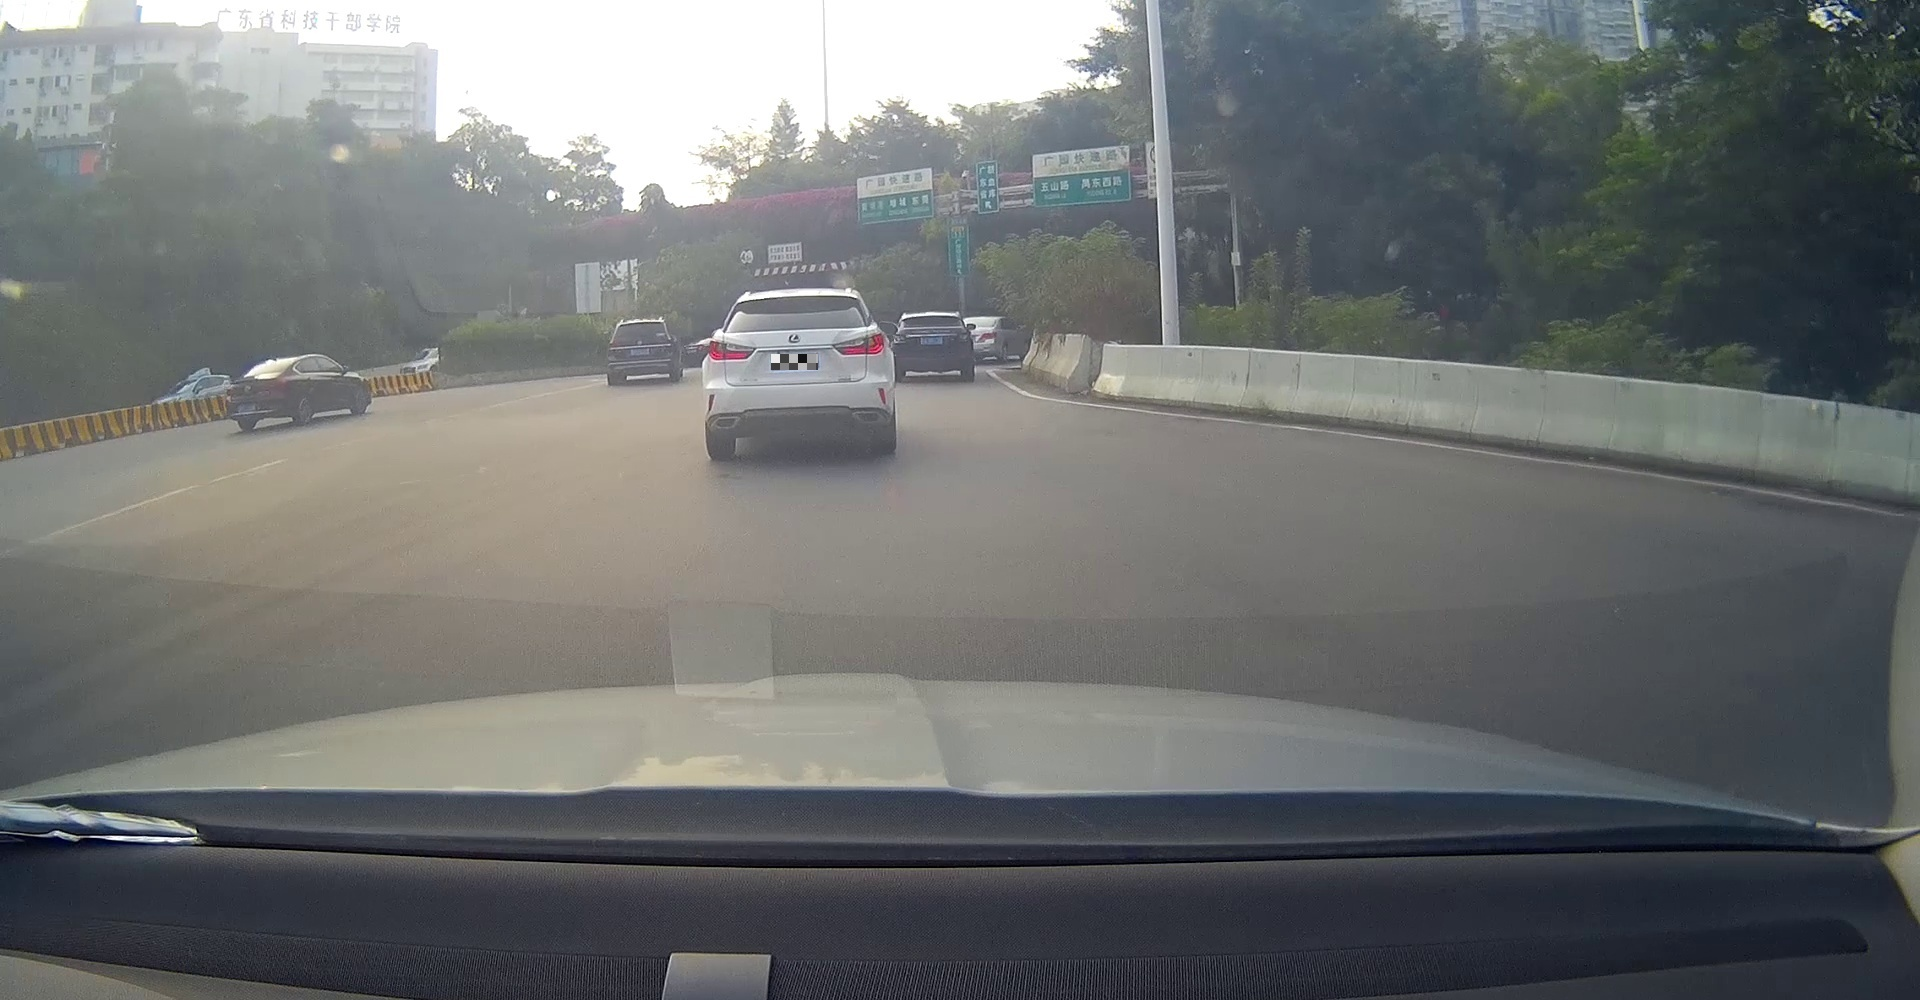L_light: (709, 339, 756, 360), (607, 349, 623, 357)
R_light: (832, 332, 884, 354), (657, 348, 676, 355)
T_light: (778, 297, 804, 299), (636, 324, 648, 325)
day-no: (703, 291, 894, 459), (606, 320, 678, 383)
plate_1: (771, 354, 818, 371)
